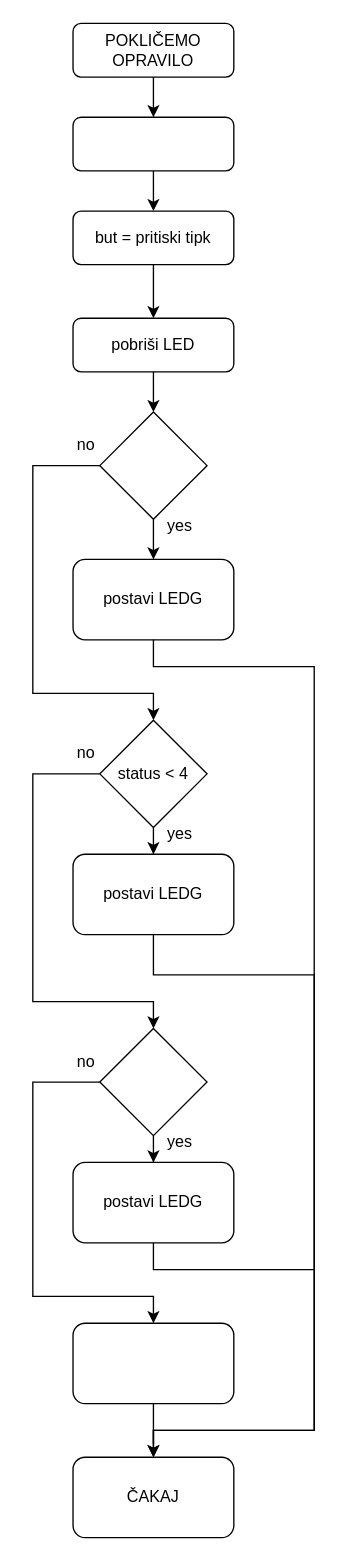
This 348x1561 diagram has some shape labels left out. The centre of each missing label's shape, as x and y in pixels:
postavi LEDR: the point at 153,1363
pridobi pritiske tipk: the point at 153,143
status == 0: the point at 152,465
status == 4: the point at 152,1081
